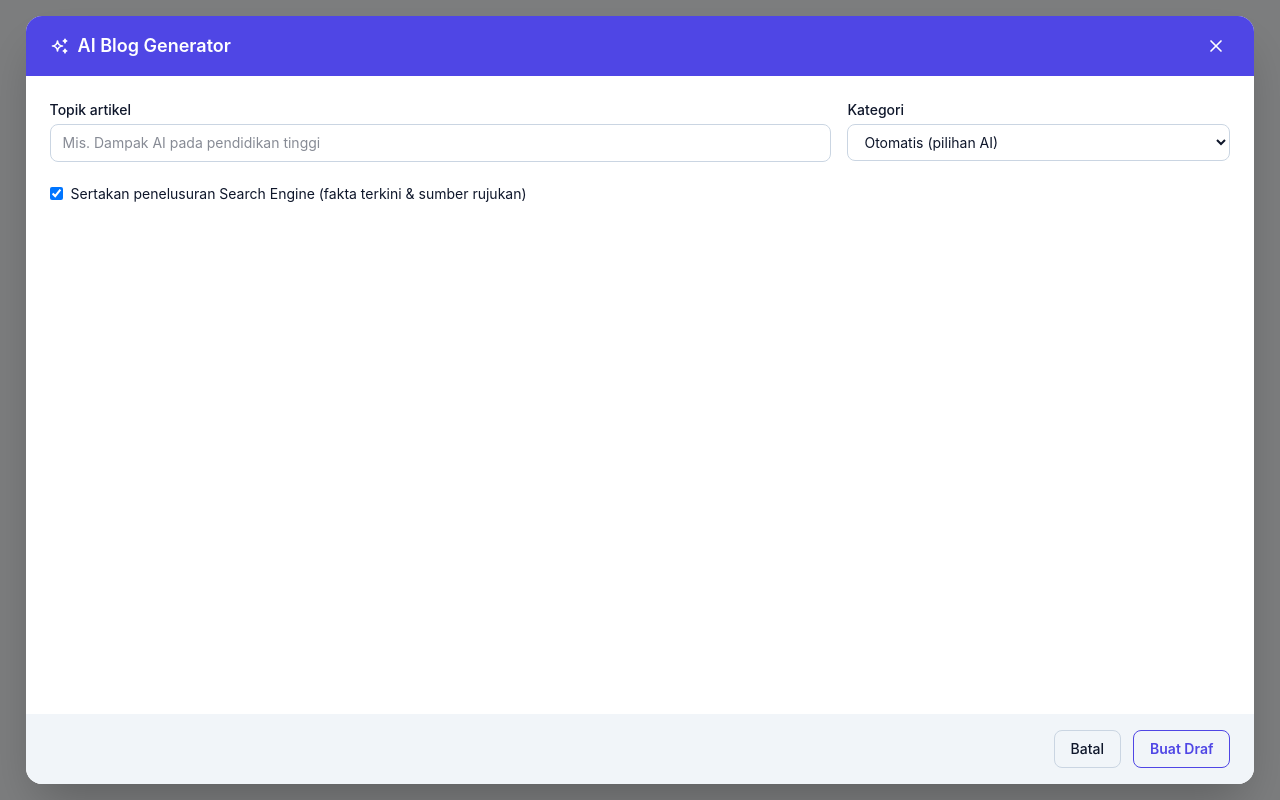
Test: AiPostGeneratorModal › topik terlalu pendek ditolak
Type "ab" into the field labelled "Topik artikel" at (441,143), box [50,124,832,162]
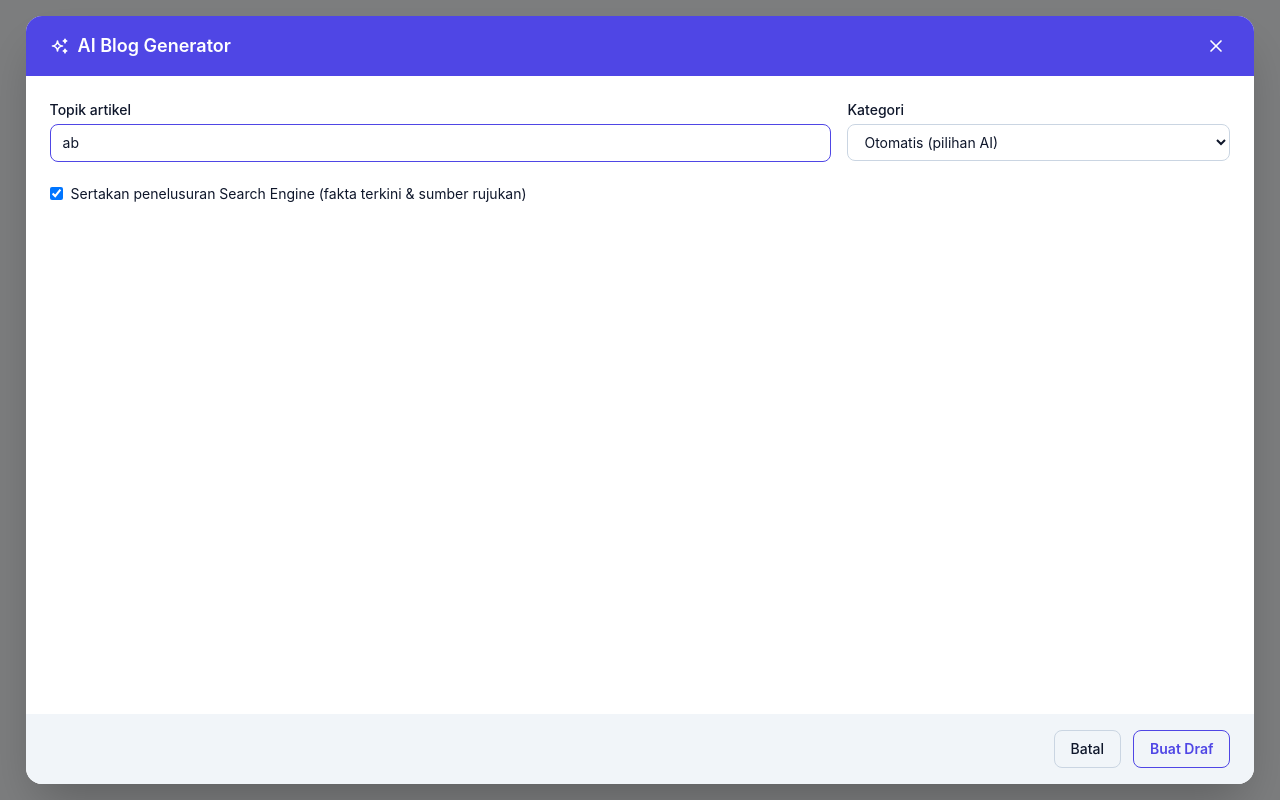
Click the button "Buat Draf" at (1182,749), box [1133,730,1230,768]
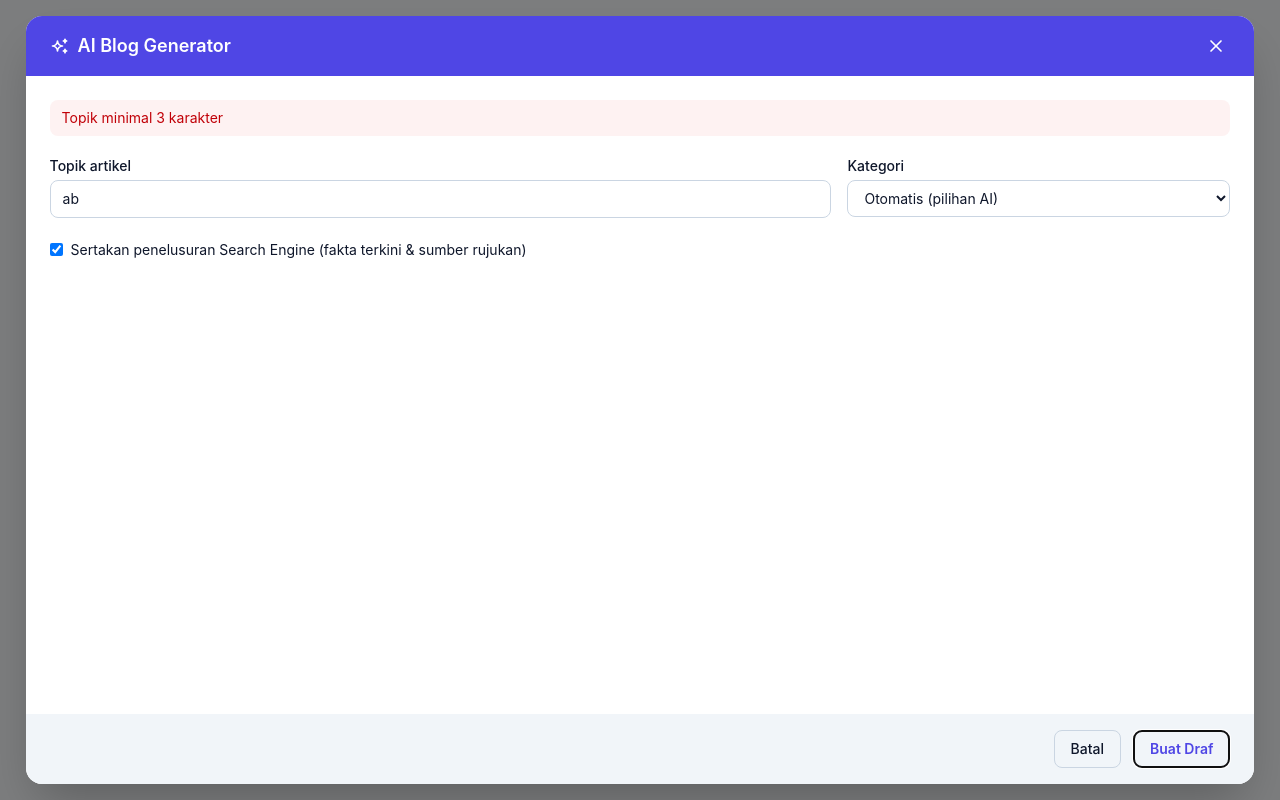
Result: the message reads "Topik minimal 3 karakter" at [62,109,223,126]
